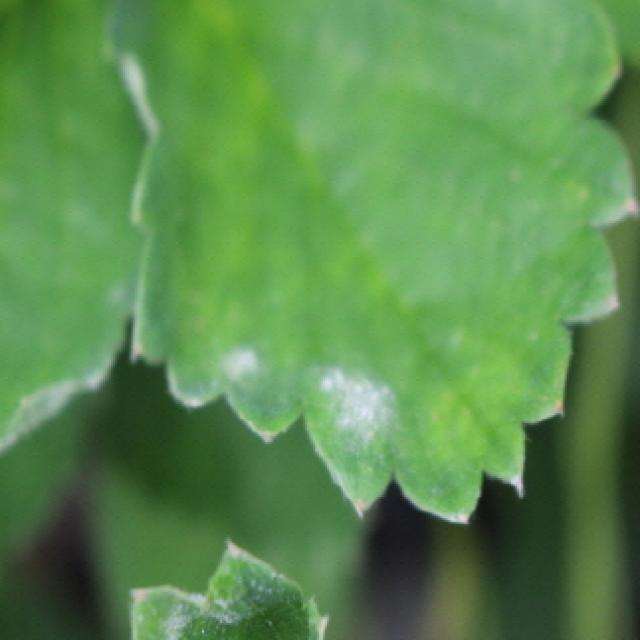Powdery Mildew Leaf: (100, 0, 640, 530), (127, 535, 335, 640)
